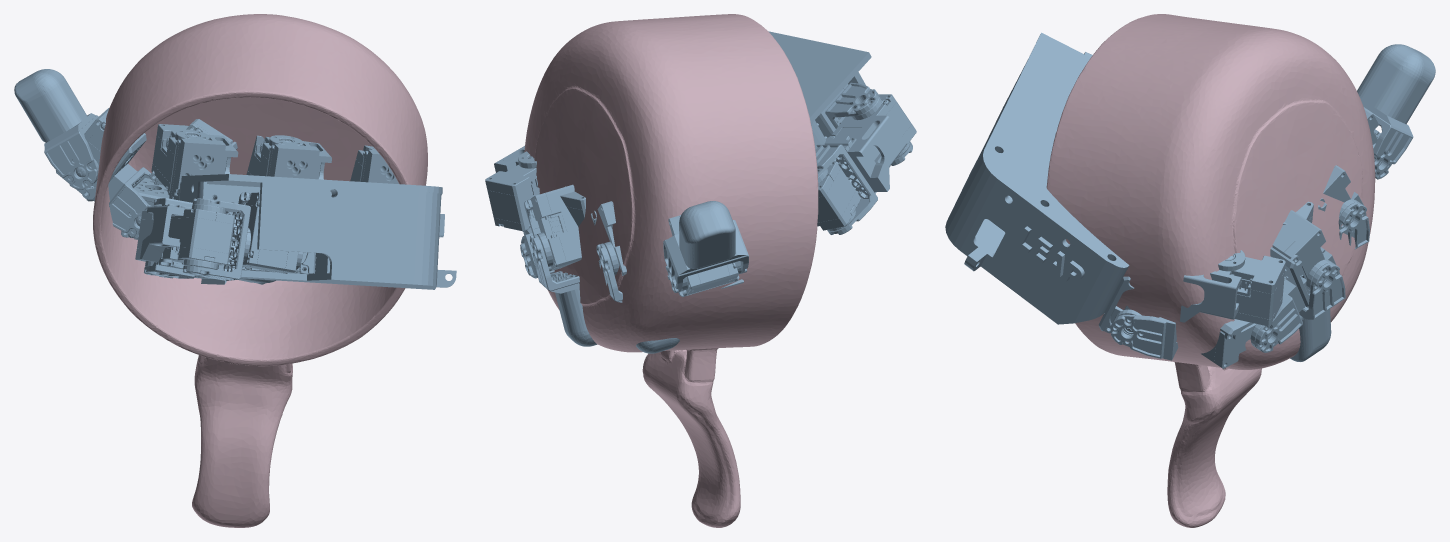
The picture shows the model from 3 angles, left to right: view 1: azimuth 30°, elevation 25°; view 2: azimuth 150°, elevation 25°; view 3: azimuth 270°, elevation 25°; orthographic projection. The views are drawn at different scales.
Visible parts, largest first — view 1: obj_mesh_grasp_5.obj, world; view 2: obj_mesh_grasp_5.obj, world; view 3: obj_mesh_grasp_5.obj, world.
Boxes of the visible parts, x1,y1,x2,y2 form: obj_mesh_grasp_5.obj: [93, 14, 427, 527]; world: [14, 69, 456, 289]; obj_mesh_grasp_5.obj: [524, 14, 818, 527]; world: [485, 31, 916, 353]; obj_mesh_grasp_5.obj: [1046, 14, 1375, 527]; world: [945, 32, 1435, 368].
Bounding box in the file's own units: 0.1764 × 0.2456 × 0.2161.
